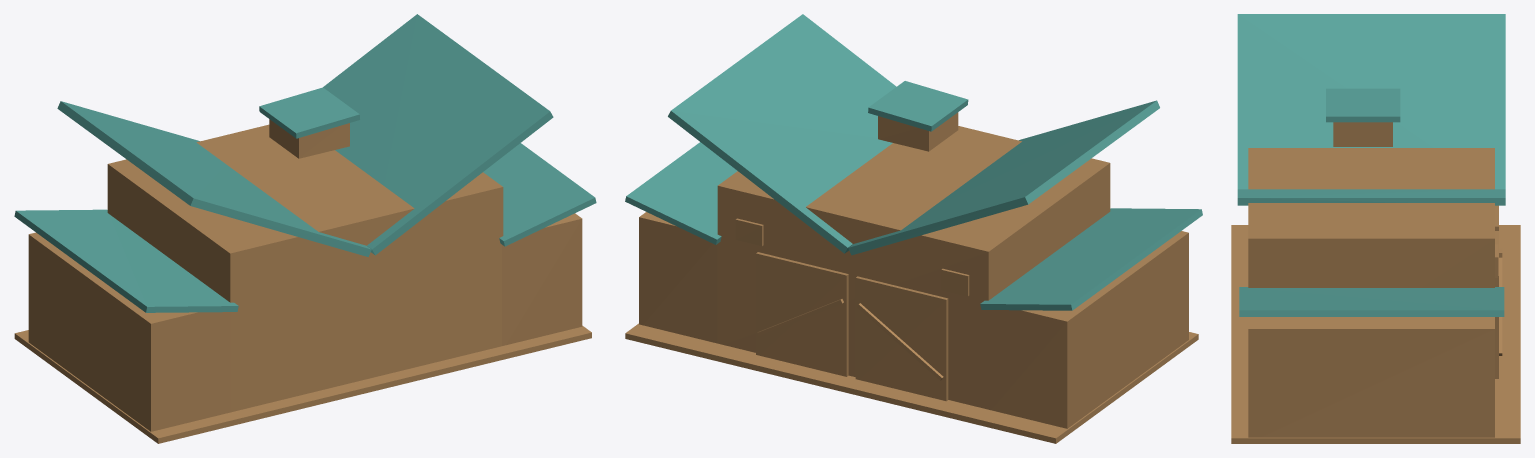
Rendered from grand-barn.glb.
3 renders of one model, left to right at view 1: azimuth 30°, elevation 25°; view 2: azimuth 150°, elevation 25°; view 3: azimuth 270°, elevation 25°, orthographic.
Visible parts, largest first — view 1: grand-barn-static-grand-barn-cladding, grand-barn-static-grand-barn-roof, grand-barn-static-grand-barn-foundation; view 2: grand-barn-static-grand-barn-cladding, grand-barn-static-grand-barn-roof, grand-barn-static-grand-barn-trim, grand-barn-static-grand-barn-foundation, grand-barn-static-grand-barn-hardware; view 3: grand-barn-static-grand-barn-cladding, grand-barn-static-grand-barn-roof, grand-barn-static-grand-barn-foundation, grand-barn-static-grand-barn-trim, grand-barn-static-grand-barn-hardware.
Part boxes in pixels (<box>): grand-barn-static-grand-barn-cladding: <box>28,119,582,431</box>; grand-barn-static-grand-barn-roof: <box>14,14,596,312</box>; grand-barn-static-grand-barn-foundation: <box>14,325,591,443</box>; grand-barn-static-grand-barn-cladding: <box>639,112,1188,428</box>; grand-barn-static-grand-barn-roof: <box>625,14,1202,310</box>; grand-barn-static-grand-barn-trim: <box>756,252,948,401</box>; grand-barn-static-grand-barn-foundation: <box>625,323,1198,443</box>; grand-barn-static-grand-barn-hardware: <box>735,218,969,380</box>; grand-barn-static-grand-barn-cladding: <box>1248,122,1494,437</box>; grand-barn-static-grand-barn-roof: <box>1237,14,1505,316</box>; grand-barn-static-grand-barn-foundation: <box>1231,225,1520,443</box>; grand-barn-static-grand-barn-trim: <box>1495,205,1498,378</box>; grand-barn-static-grand-barn-hardware: <box>1495,244,1502,355</box>.
Size of the model in its own units: 18.49 by 9.2 by 10.2.
